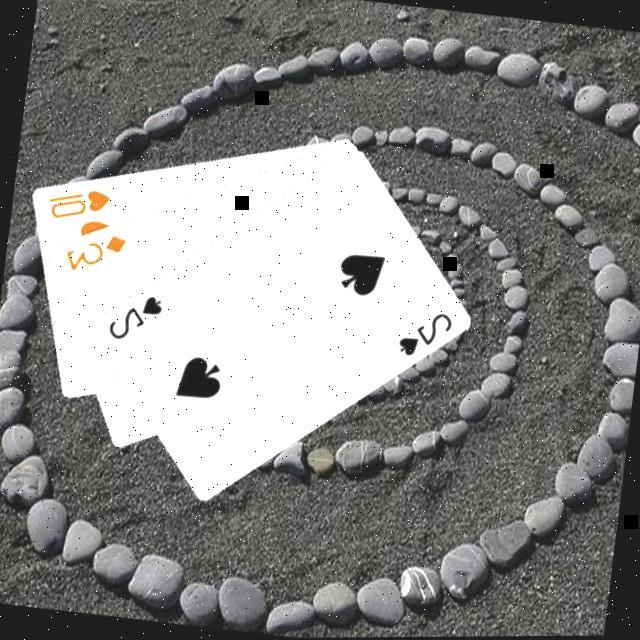10H: (44, 179, 116, 227)
2S: (104, 286, 168, 347), (394, 303, 458, 364)
3D: (61, 224, 132, 280)
